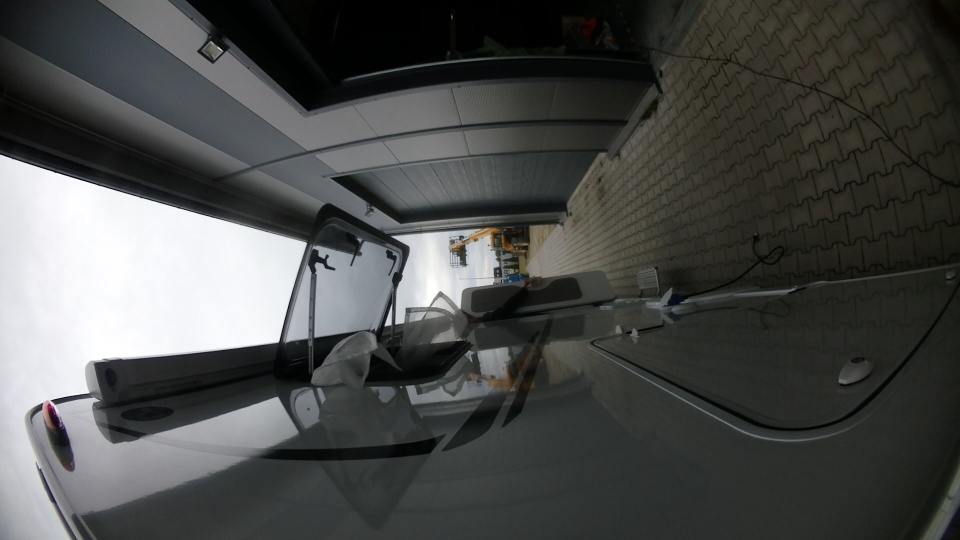door_back: (455, 264, 619, 320)
step_back: (629, 264, 669, 303)
window_back: (266, 200, 476, 384)
